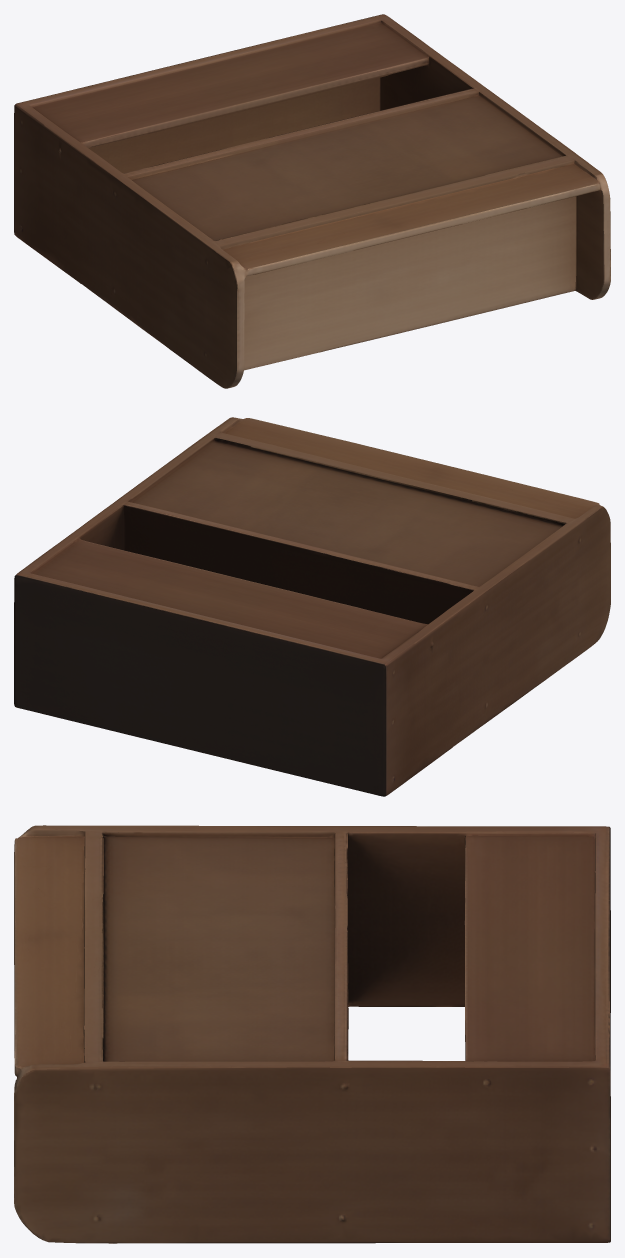
Rendered from shelf.obj.
The picture shows the model from 3 angles, top to bottom: view 1: azimuth 30°, elevation 25°; view 2: azimuth 150°, elevation 25°; view 3: azimuth 270°, elevation 25°; orthographic projection. The views are drawn at different scales.
Visible parts, largest first — view 1: geometry_0; view 2: geometry_0; view 3: geometry_0.
Boxes of the visible parts, x1,y1,x2,y2 form: geometry_0: [14, 14, 610, 388]; geometry_0: [14, 417, 610, 796]; geometry_0: [14, 825, 610, 1243].
Size of the model in its own units: 0.6544 by 0.2228 by 0.6782.
1 material, 1 textured.
